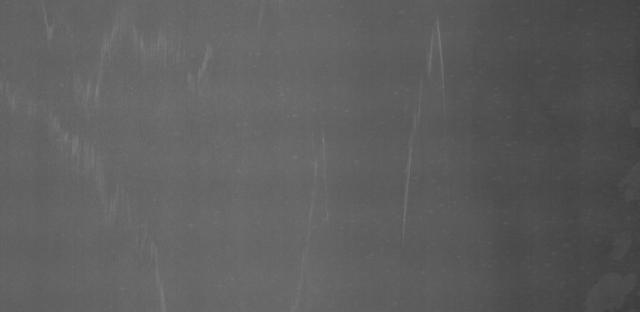silk_spot: (384, 8, 467, 233), (59, 20, 212, 110), (48, 130, 152, 238), (295, 142, 346, 237)
